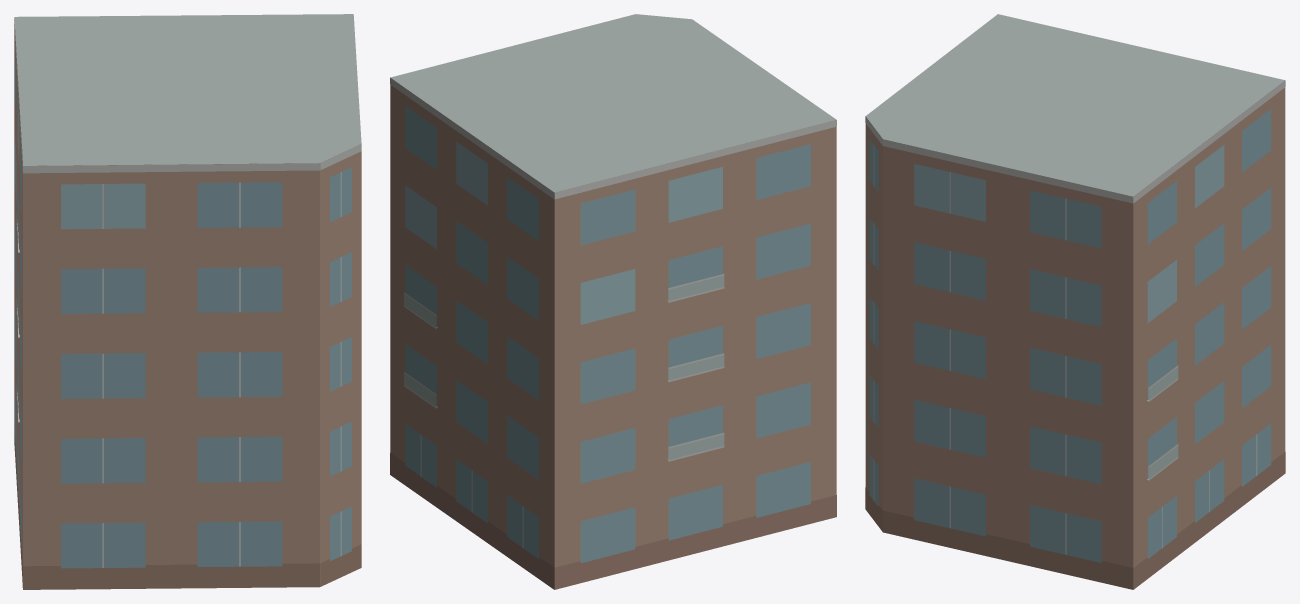
Rendered from survey-upis-33009701.glb.
3 renders of one model, left to right at view 1: azimuth 30°, elevation 25°; view 2: azimuth 150°, elevation 25°; view 3: azimuth 270°, elevation 25°, orthographic. The views are drawn at different scales.
Visible parts, largest first — view 1: survey-upis-33009701.tmp; view 2: survey-upis-33009701.tmp; view 3: survey-upis-33009701.tmp.
Part boxes in pixels (box(x1,y1,x2,y2)): survey-upis-33009701.tmp: box(14, 14, 361, 589); survey-upis-33009701.tmp: box(390, 14, 836, 589); survey-upis-33009701.tmp: box(865, 14, 1285, 589).
Bounding box in the file's own units: 13.96 × 14 × 13.56.
